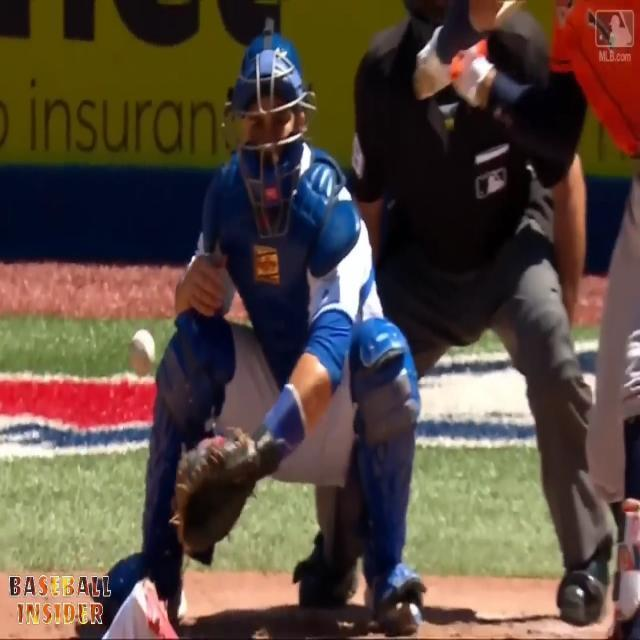ball: (129, 330, 161, 378)
